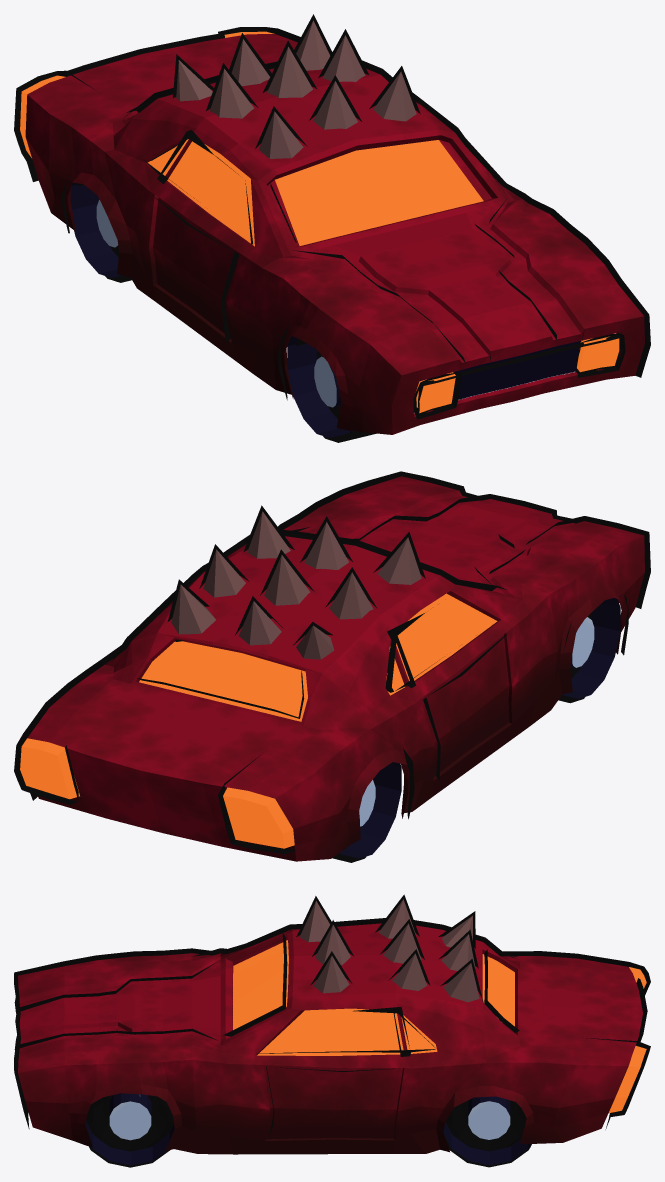
Rendered from car model.glb.
3 views of the same model, one above another, from view 1: azimuth 30°, elevation 25°; view 2: azimuth 150°, elevation 25°; view 3: azimuth 270°, elevation 25° (orthographic). The views are drawn at different scales.
Visible parts, largest first — view 1: Cube.001, Cube, FrontRight, Circle.002; view 2: Cube.001, Cube, FrontRight, Circle.002; view 3: Cube.001, Cube, FrontLeft, Circle.002.
Part boxes in pixels (x1,y1,x2,y2): Cube.001: (14,27,650,434); Cube: (173,14,420,158); FrontRight: (287,336,376,442); Circle.002: (70,182,131,282); Cube.001: (14,471,650,861); Cube: (167,505,425,659); FrontRight: (558,598,620,703); Circle.002: (332,762,401,862); Cube.001: (14,918,650,1154); Cube: (296,894,483,1002); FrontLeft: (85,1093,174,1167); Circle.002: (443,1096,531,1167).
Bounding box in the file's own units: 1.3 × 0.9769 × 2.84.
5 materials, 2 textured.
